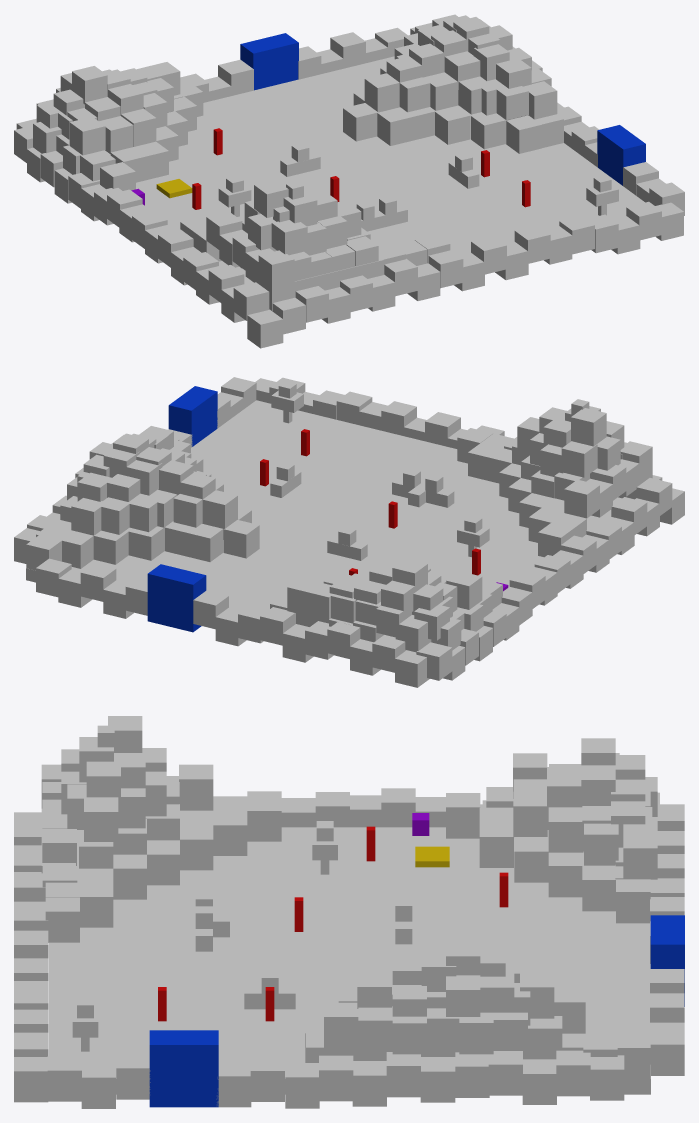
Rendered from BlockoutCollapsed.FBX.
3 renders of one model, top to bottom at view 1: azimuth 30°, elevation 25°; view 2: azimuth 150°, elevation 25°; view 3: azimuth 270°, elevation 25°, orthographic. The views are drawn at different scales.
Parts seen in each view (by area): view 1: pCube226, pCube173, pCube172; view 2: pCube226, pCube173, pCube172; view 3: pCube226, pCube172, pCube173, pCube140.
Part boxes in pixels (box(x1,y1,x2,y2)): pCube226: box(14, 14, 684, 348); pCube173: box(240, 33, 298, 90); pCube172: box(597, 125, 645, 185); pCube226: box(14, 377, 684, 687); pCube173: box(147, 564, 206, 632); pCube172: box(168, 386, 217, 446); pCube226: box(14, 716, 684, 1108); pCube172: box(149, 1030, 218, 1107); pCube173: box(650, 915, 684, 1006); pCube140: box(415, 846, 449, 867).
Bounding box in the file's own units: 38.59 × 10.17 × 38.99.
